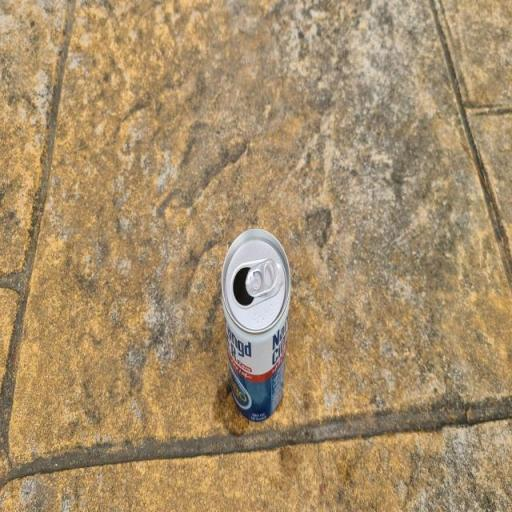metal: (216, 212, 303, 426)
